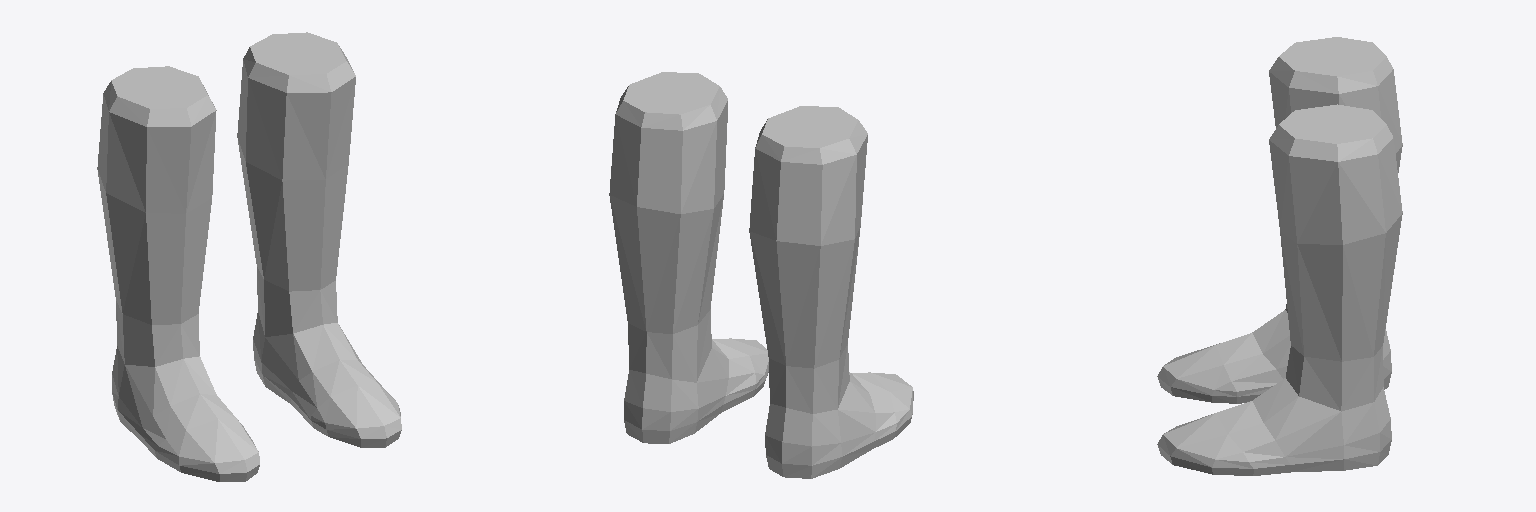
Rendered from dm_nazgulrobe.1.obj.
The picture shows the model from 3 angles: view 1: azimuth 30°, elevation 25°; view 2: azimuth 150°, elevation 25°; view 3: azimuth 270°, elevation 25°; orthographic projection.
Size of the model in its own units: 0.3743 by 0.5 by 0.3359.